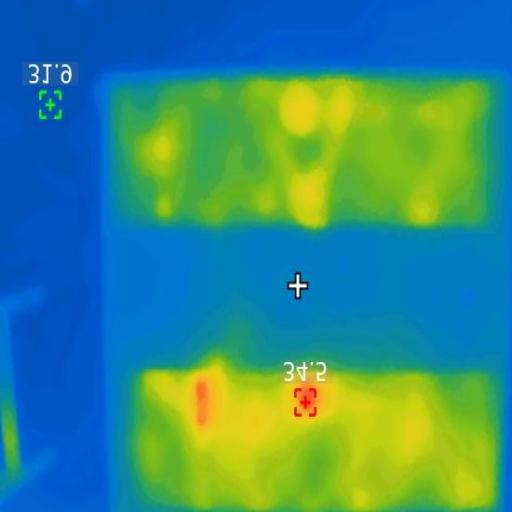hotspot: (193, 375, 210, 431), (294, 384, 318, 420)
